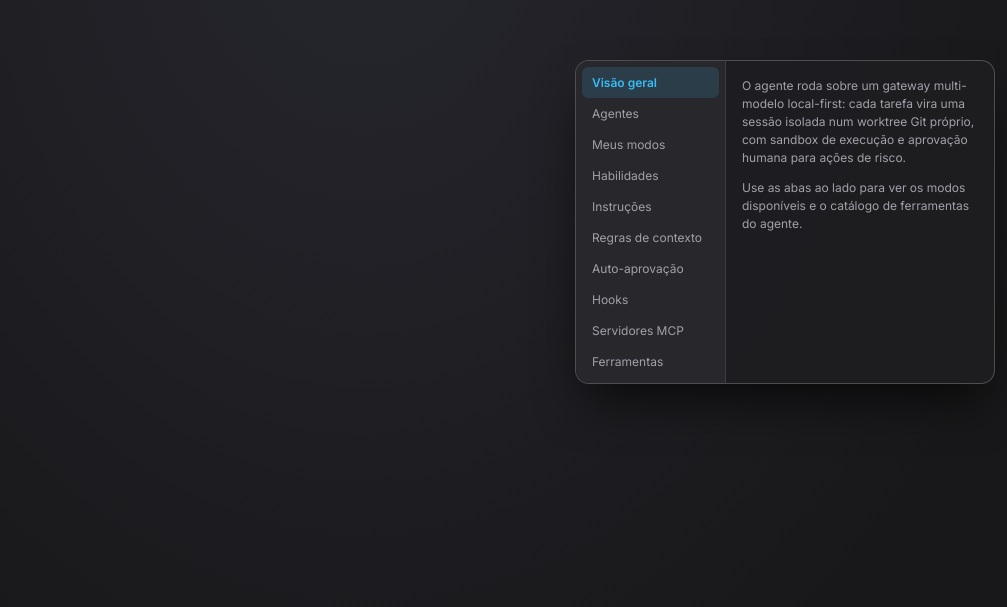
it: CustomizationsPopover — aba Agentes › marca só o modo atual com o selo 'atual'
What coordinates should you click on to do the following:
click the button "Agentes"
I would click on:
 (650, 114)
Its box is left=582, top=98, right=719, bottom=129.
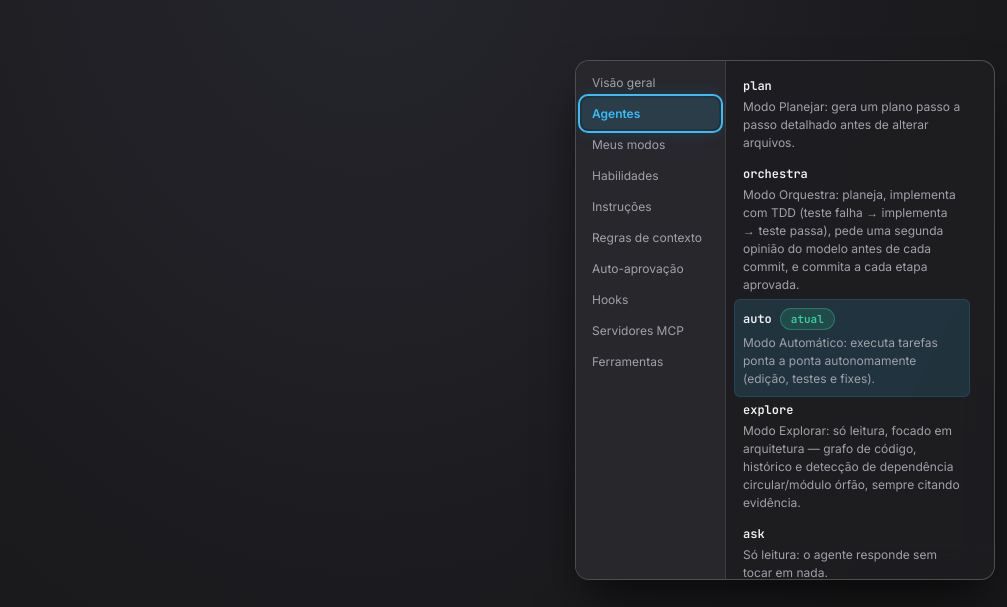
Check: the button named "autoatual" is shown, box left=734, top=299, right=970, bottom=397
